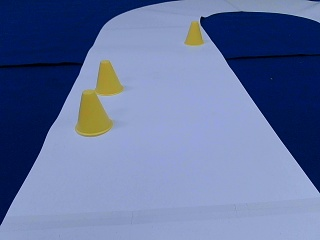cone: (75, 91, 112, 135), (94, 61, 123, 95), (184, 21, 203, 45)
